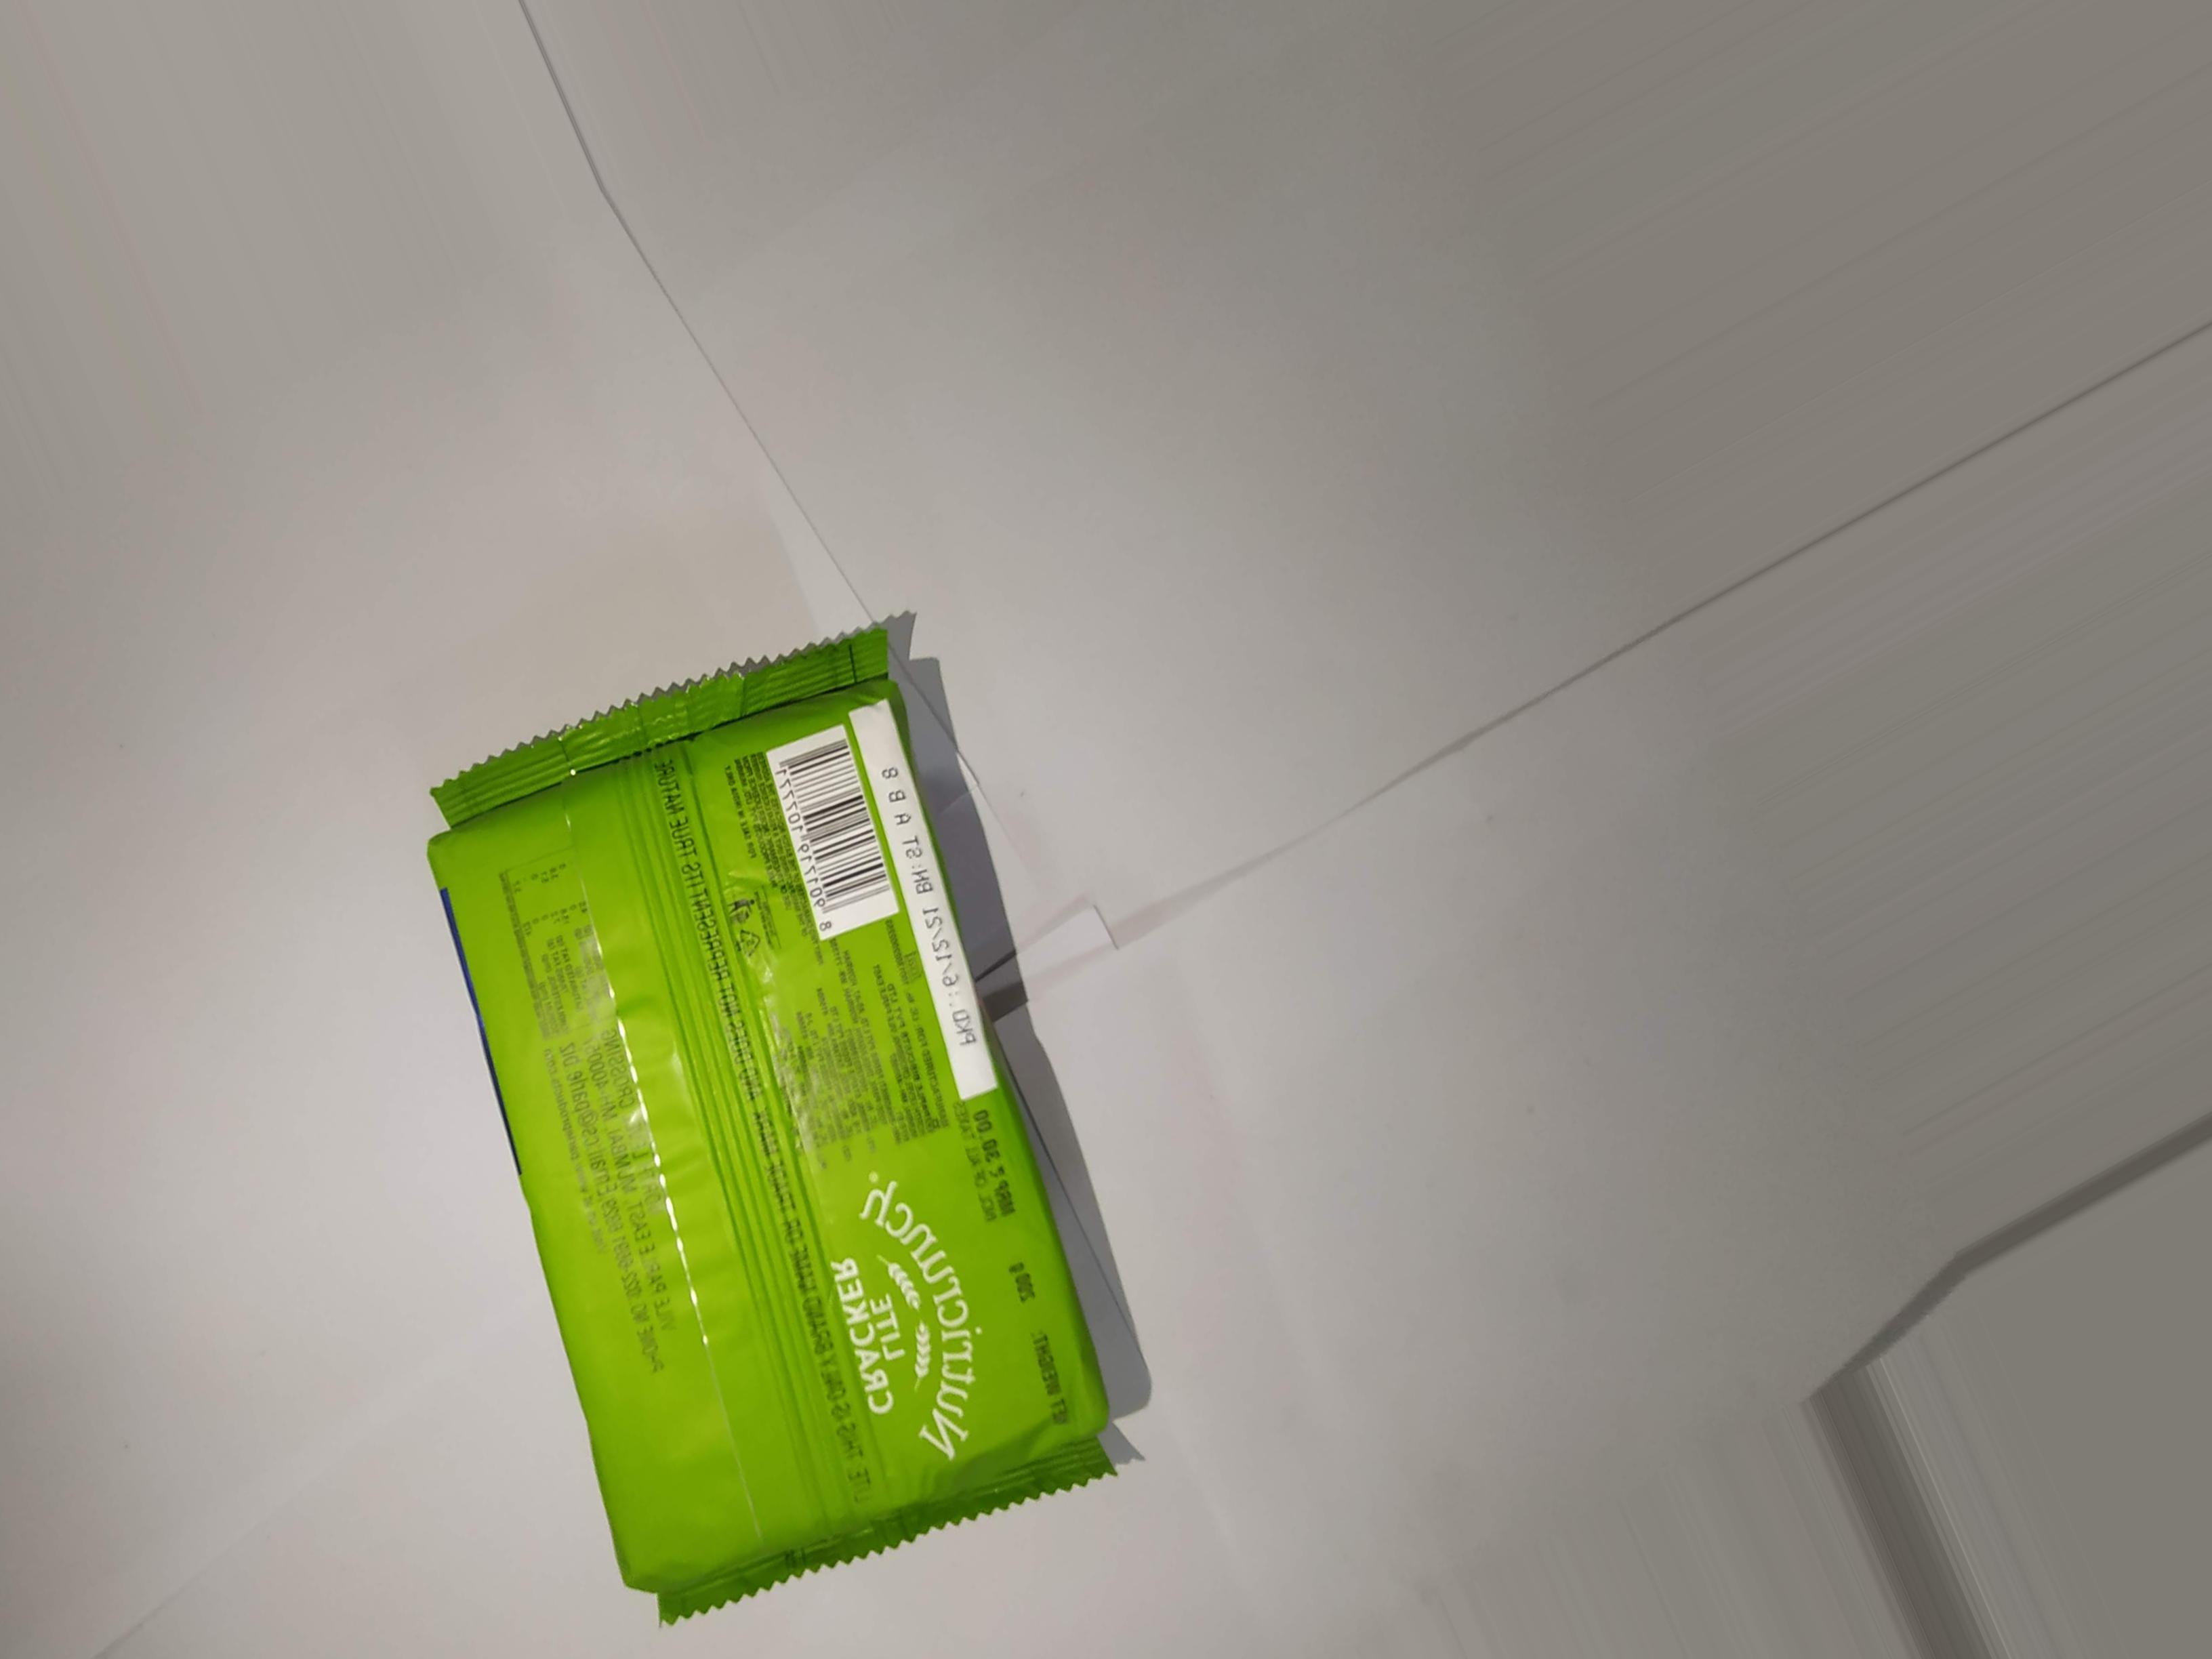Bar_code: (745, 716, 918, 948)
Item: (359, 579, 1256, 1610)
